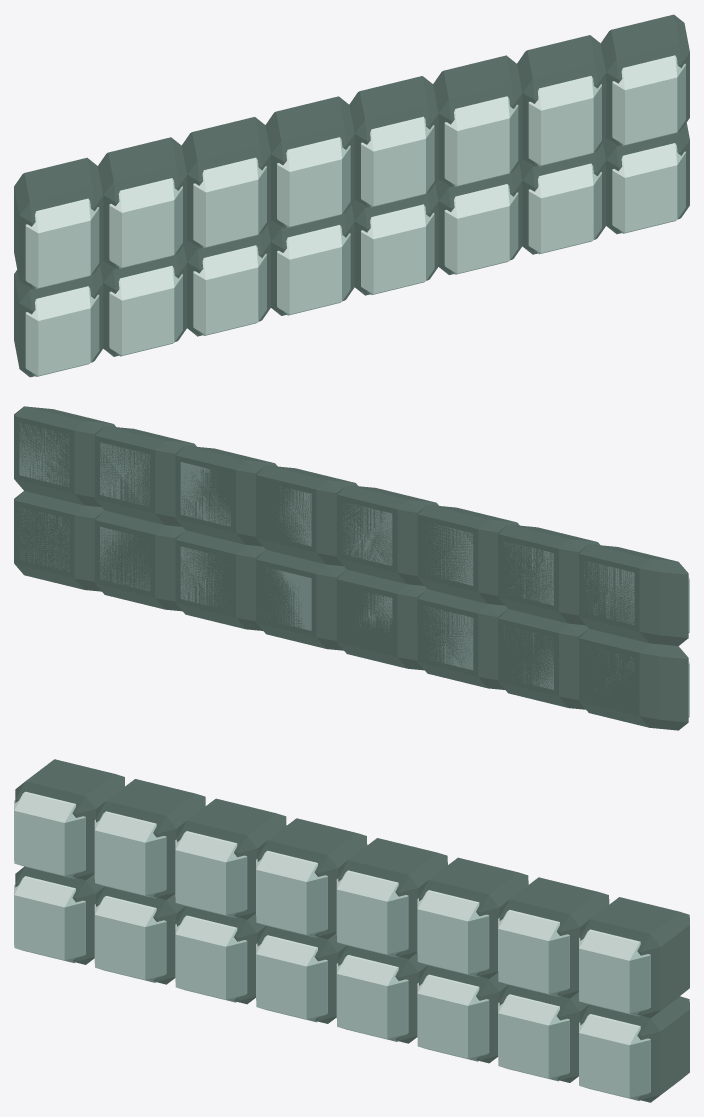
File: Terrain_Block8x2.gltf
3 renders of one model, top to bottom at view 1: azimuth 30°, elevation 25°; view 2: azimuth 150°, elevation 25°; view 3: azimuth 330°, elevation 25°, orthographic. The views are drawn at different scales.
Visible parts, largest first — view 1: Terrain_Block8x2_baked; view 2: Terrain_Block8x2_baked; view 3: Terrain_Block8x2_baked.
Part boxes in pixels (bbox=[...]): Terrain_Block8x2_baked: bbox=[14, 14, 689, 377]; Terrain_Block8x2_baked: bbox=[14, 406, 689, 730]; Terrain_Block8x2_baked: bbox=[14, 759, 689, 1102].
Size of the model in its own units: 8.15 by 2.15 by 0.7.
